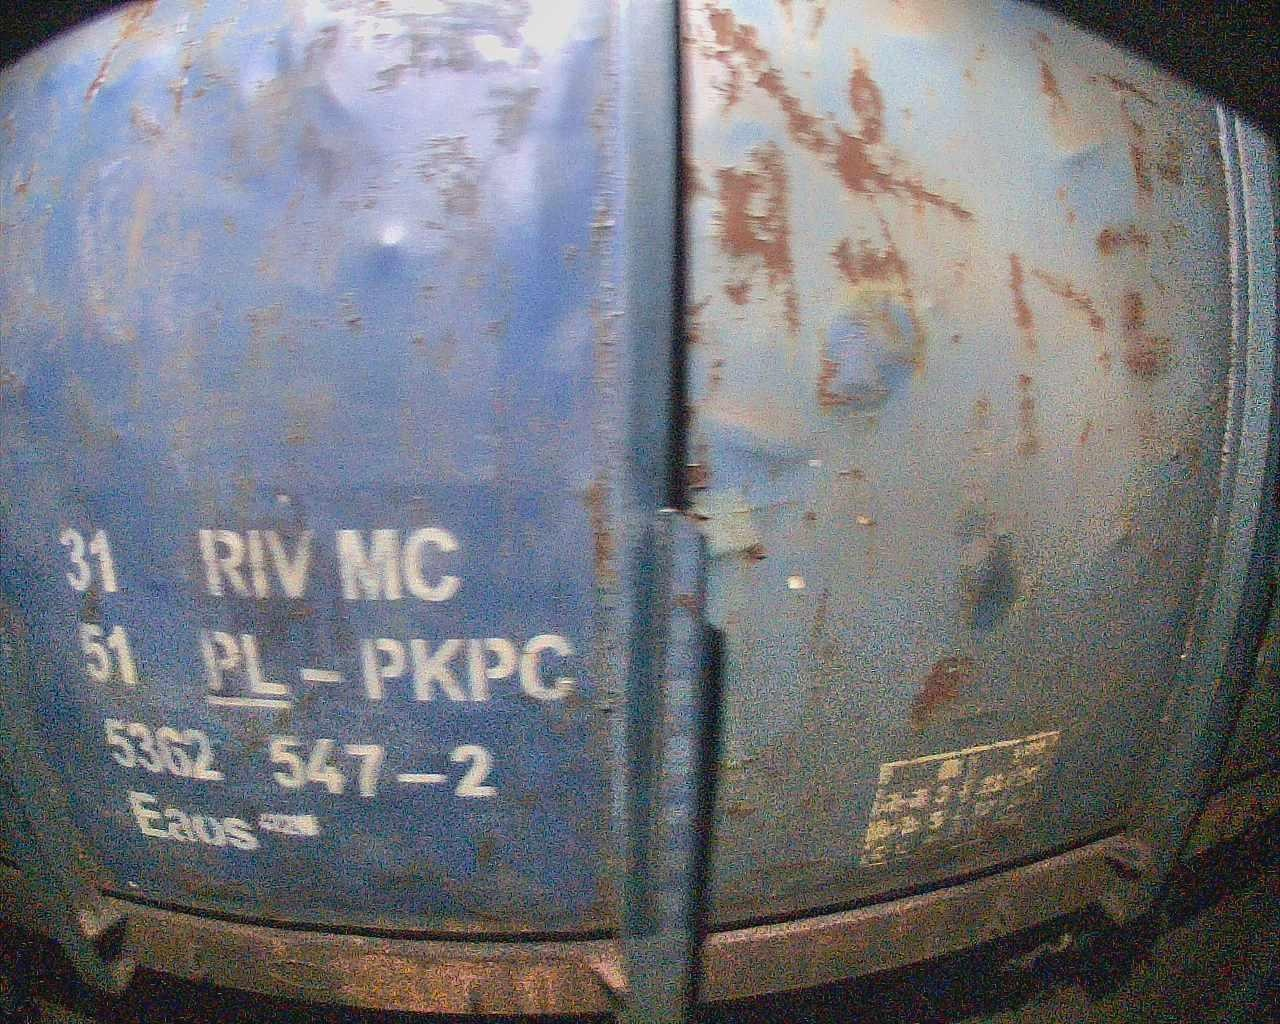UIC: (51, 523, 581, 856)
